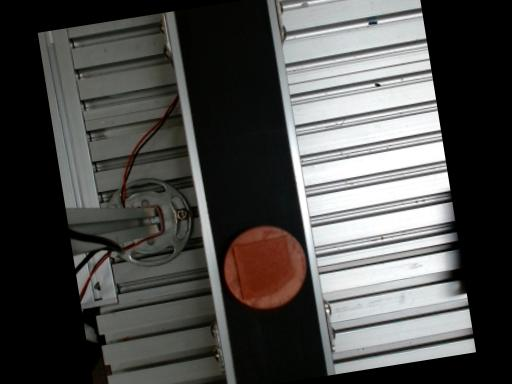Brown_Waper: (222, 225, 305, 309)
Not_Square: (231, 234, 295, 300)
